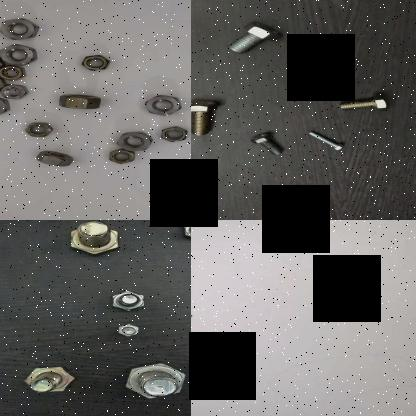Bolts: (120, 362, 191, 402), (63, 220, 131, 257), (222, 21, 282, 57), (20, 362, 82, 396), (191, 96, 226, 140), (105, 284, 155, 314), (300, 130, 352, 156), (245, 131, 292, 157), (339, 94, 389, 115), (110, 324, 146, 340), (176, 220, 191, 247)
NUTS: (0, 15, 41, 45), (141, 94, 185, 118), (114, 128, 154, 154), (32, 148, 78, 170), (0, 42, 38, 68), (55, 93, 104, 111), (78, 53, 110, 78), (101, 148, 142, 167), (157, 124, 189, 146), (0, 81, 31, 103), (22, 119, 55, 139), (0, 64, 27, 82), (0, 93, 9, 119)
